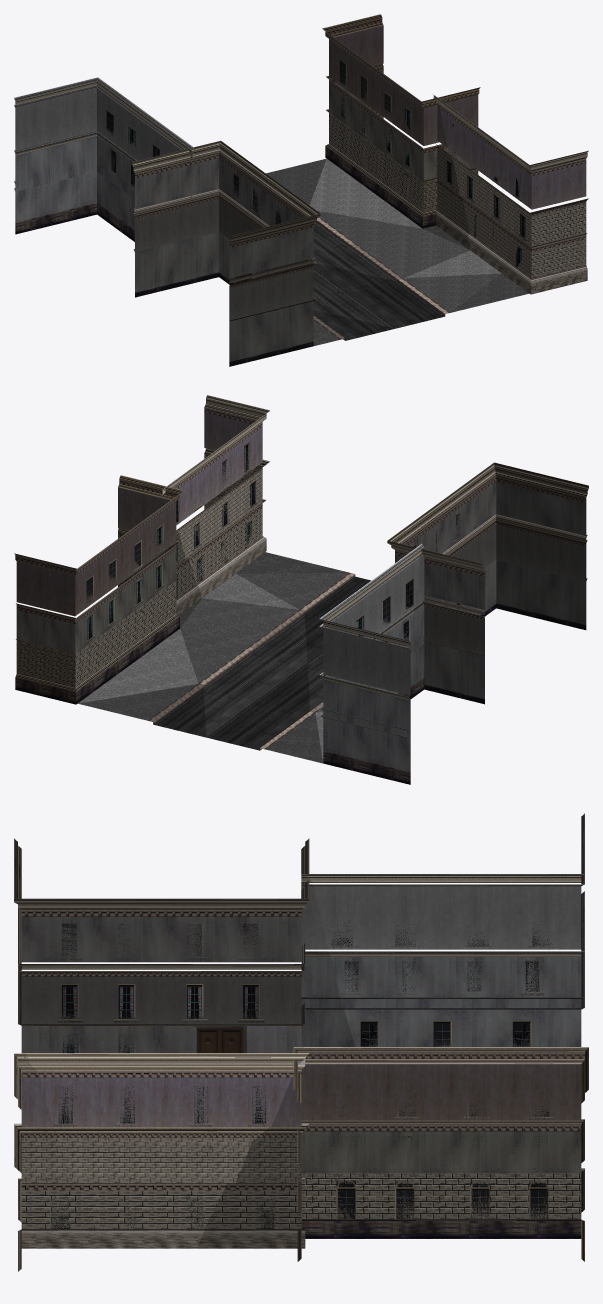
Rendered from primary_133.glb.
3 renders of one model, top to bottom at view 1: azimuth 30°, elevation 25°; view 2: azimuth 150°, elevation 25°; view 3: azimuth 270°, elevation 25°, orthographic. The views are drawn at different scales.
Visible parts, largest first — view 1: Object; view 2: Object; view 3: Object.
Part boxes in pixels (box(x1,y1,x2,y2)): Object: box(14, 14, 588, 366); Object: box(14, 395, 588, 784); Object: box(14, 813, 588, 1271).
Size of the model in its own units: 34.84 by 12.04 by 30.7.
250 materials, 250 textured.
